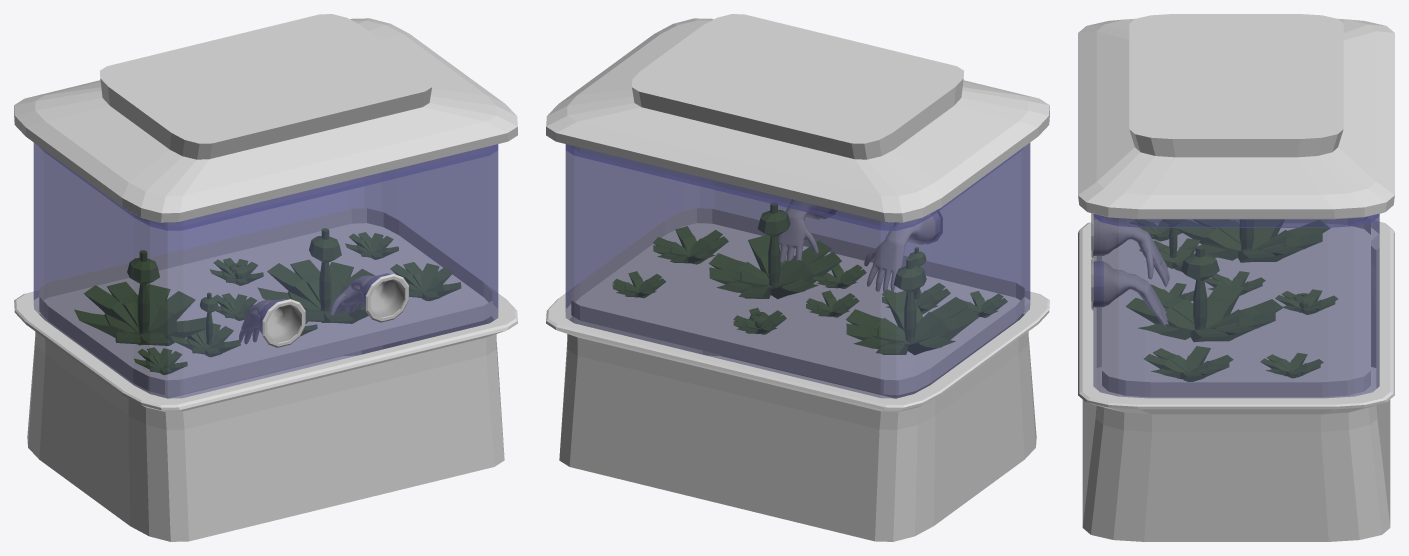
File: plantboxBig.fbx
3 views of the same model, side by side, from view 1: azimuth 30°, elevation 25°; view 2: azimuth 150°, elevation 25°; view 3: azimuth 270°, elevation 25° (orthographic).
Visible parts, largest first — view 1: plantboxBig; view 2: plantboxBig; view 3: plantboxBig.
Part boxes in pixels (bbox=[...]): plantboxBig: bbox=[14, 14, 517, 541]; plantboxBig: bbox=[546, 14, 1049, 541]; plantboxBig: bbox=[1078, 14, 1394, 541].
Bounding box in the file's own units: 2.58 × 2.38 × 1.82.
